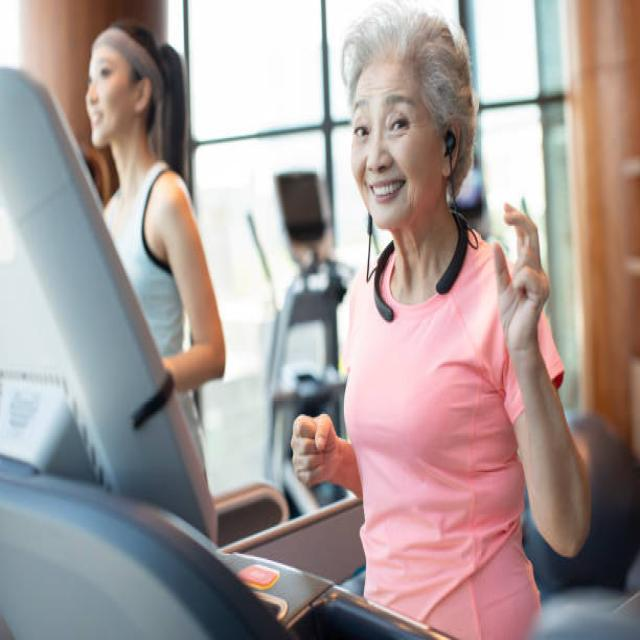Neckband: (364, 129, 480, 323)
